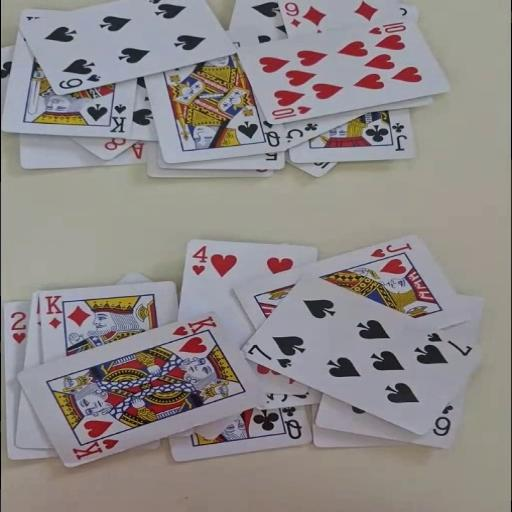10: (269, 104, 313, 120), (367, 20, 408, 36)
2: (8, 310, 28, 344)
4: (188, 244, 208, 276)
5: (283, 121, 319, 143)
6: (430, 402, 456, 436), (55, 72, 102, 90)
7: (424, 330, 473, 358), (244, 342, 294, 369)
8: (101, 136, 128, 151)
9: (282, 0, 302, 28)
J: (367, 240, 414, 258), (390, 121, 408, 151)
K: (69, 436, 120, 461), (169, 314, 219, 338), (43, 293, 64, 330)
